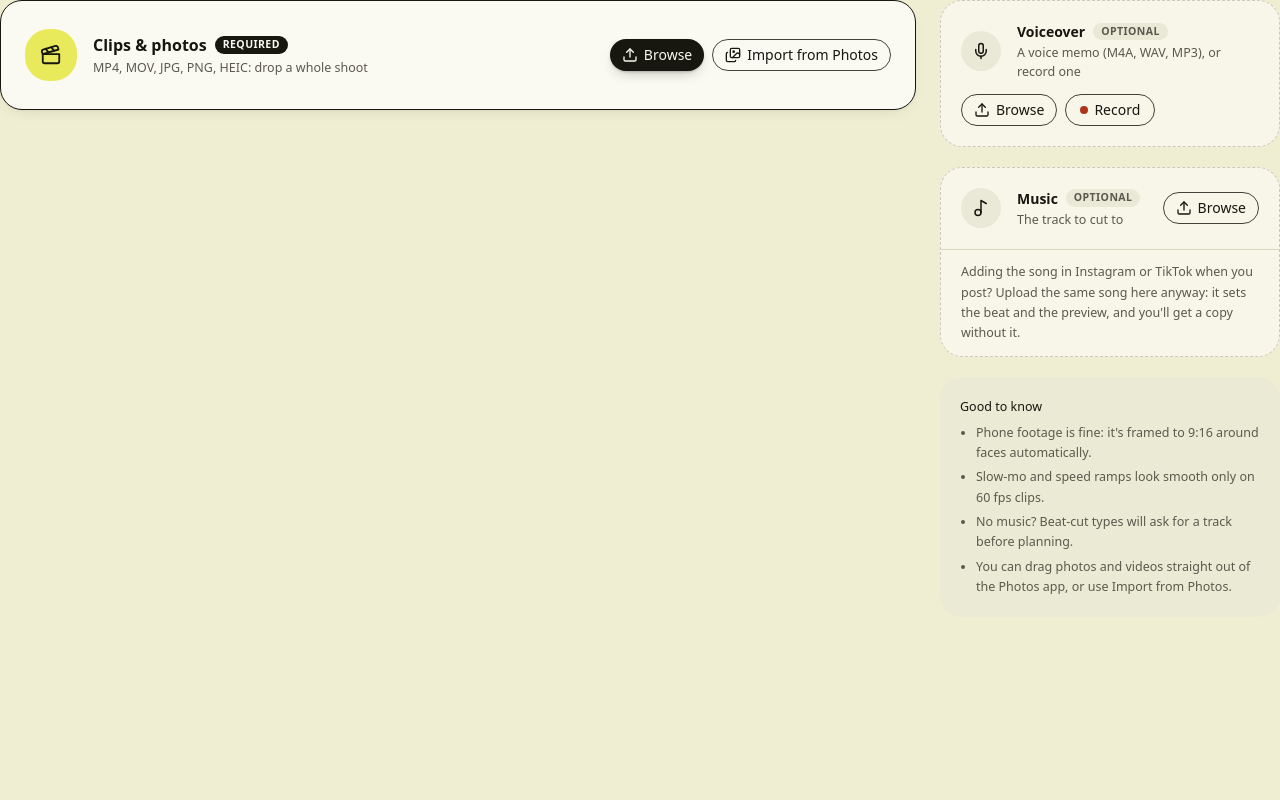
the Voiceover card › Record → Use this uploads the take through the files endpoint, as a voiceover, first in the edit order
This screenshot has width=1280, height=800.
Click the button "Record": (1110, 110) [1065,94,1155,126]
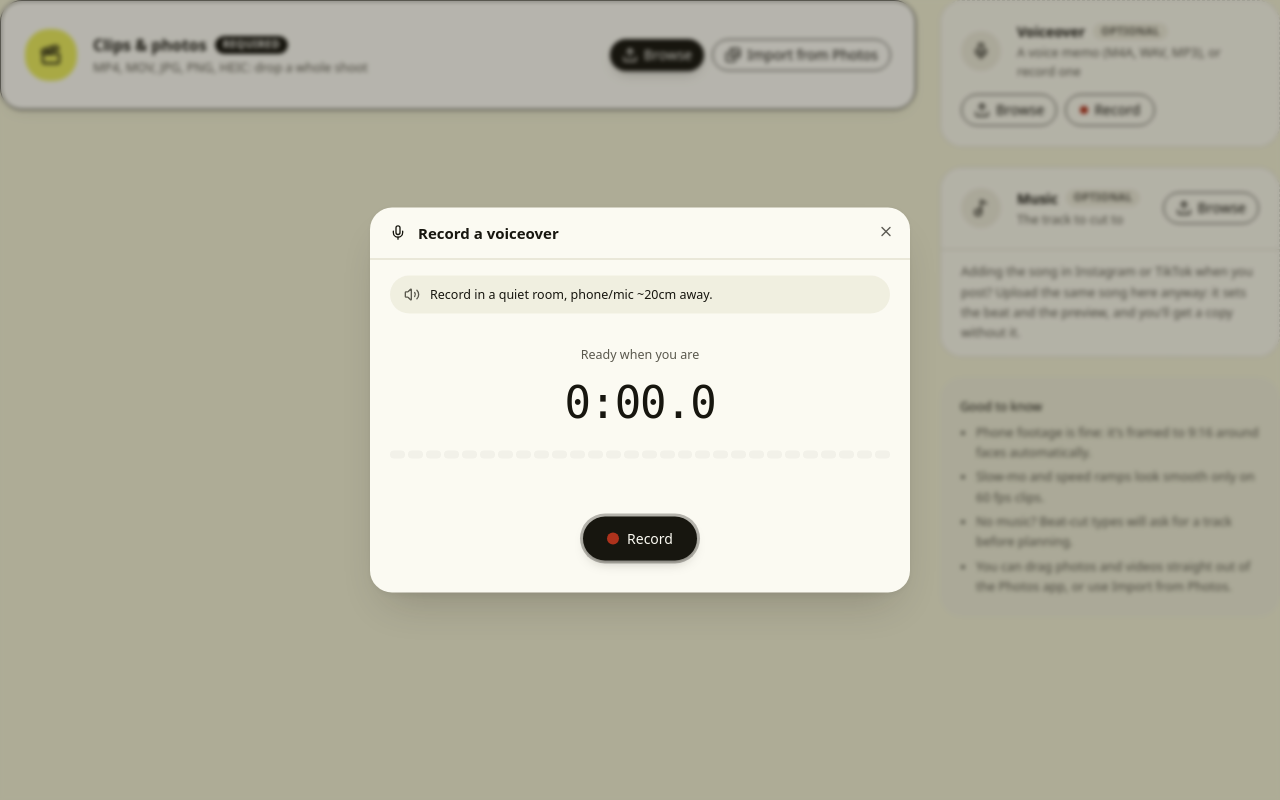
Click the button "Record": (640, 538) [583,516,697,560]
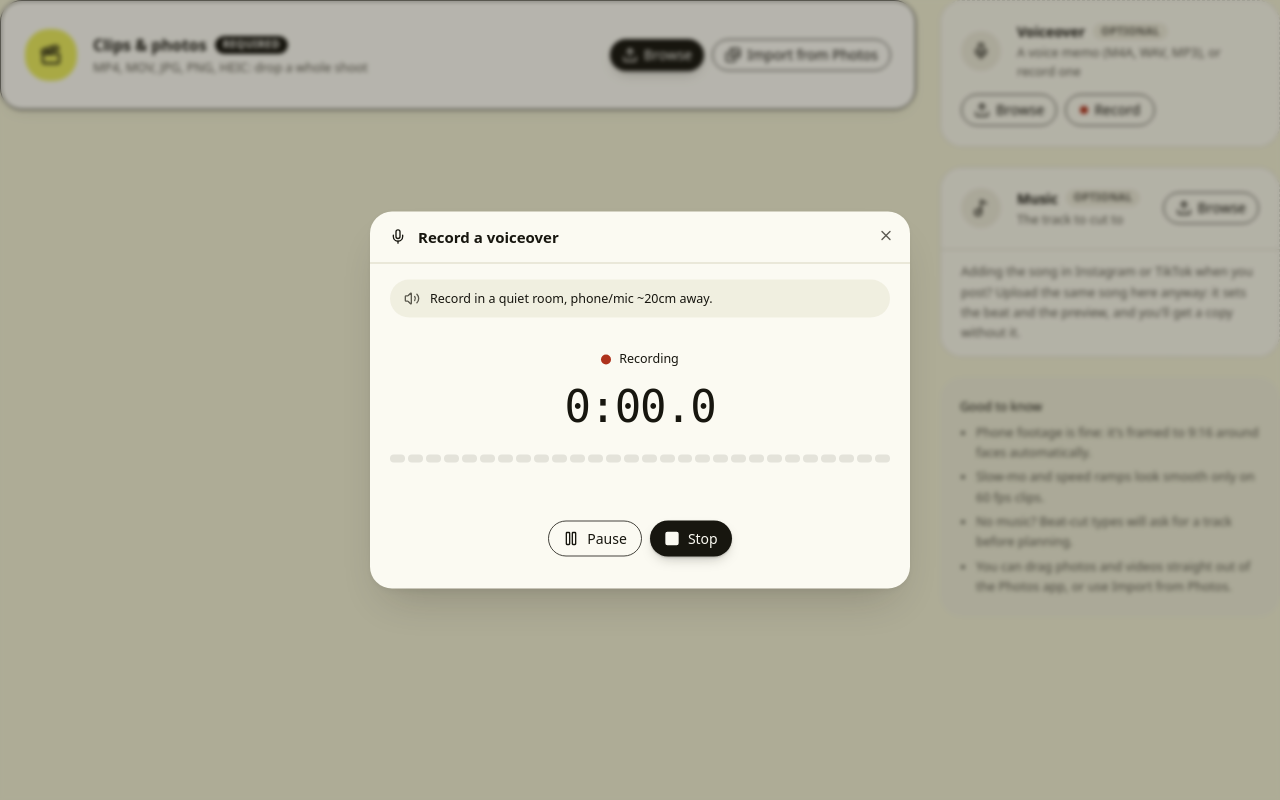
Expected: the element with test id "recorder" has attribute data-status="recording", [390,334,890,573]
Click the button "Stop": (691, 538) [650,520,732,556]
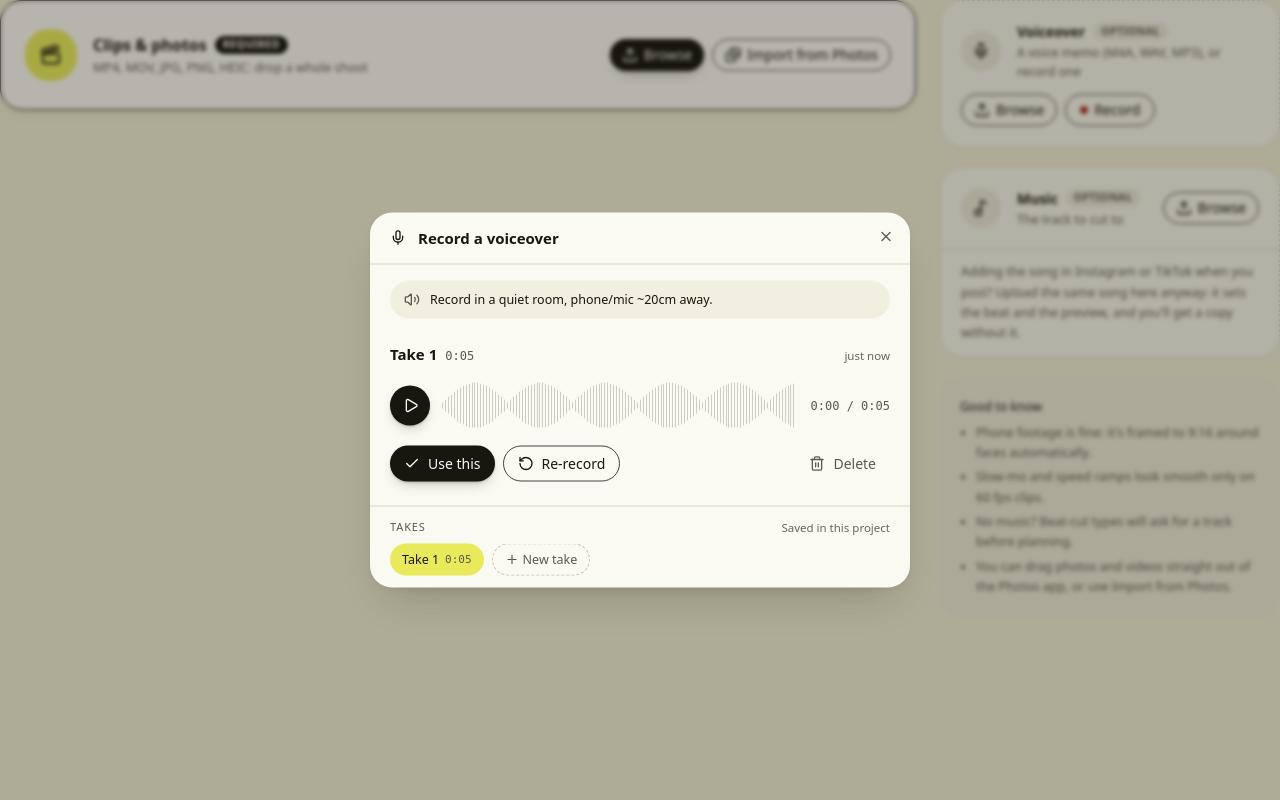
Expected: the element with test id "take-review" is shown, [390,335,890,489]
Click the button "Use this": (442, 463) [390,445,494,481]
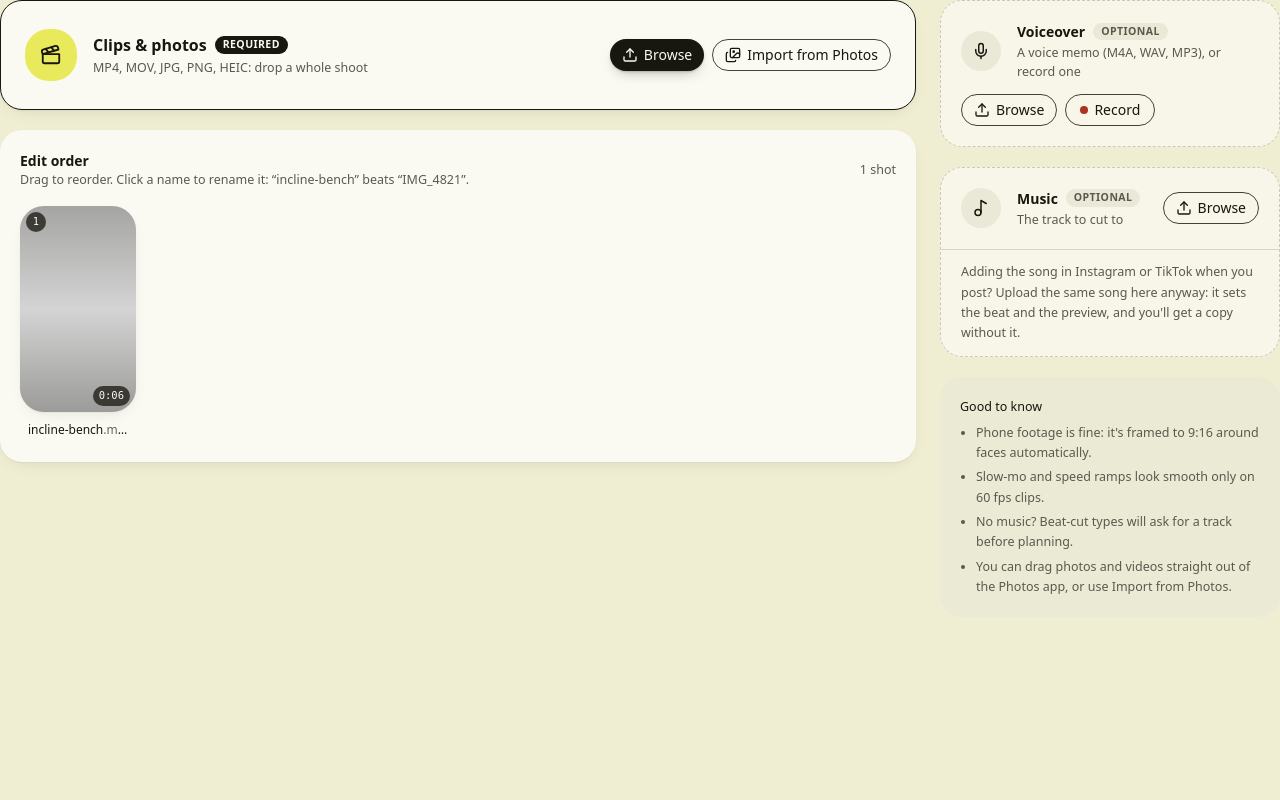
Expected: the dialog is gone
